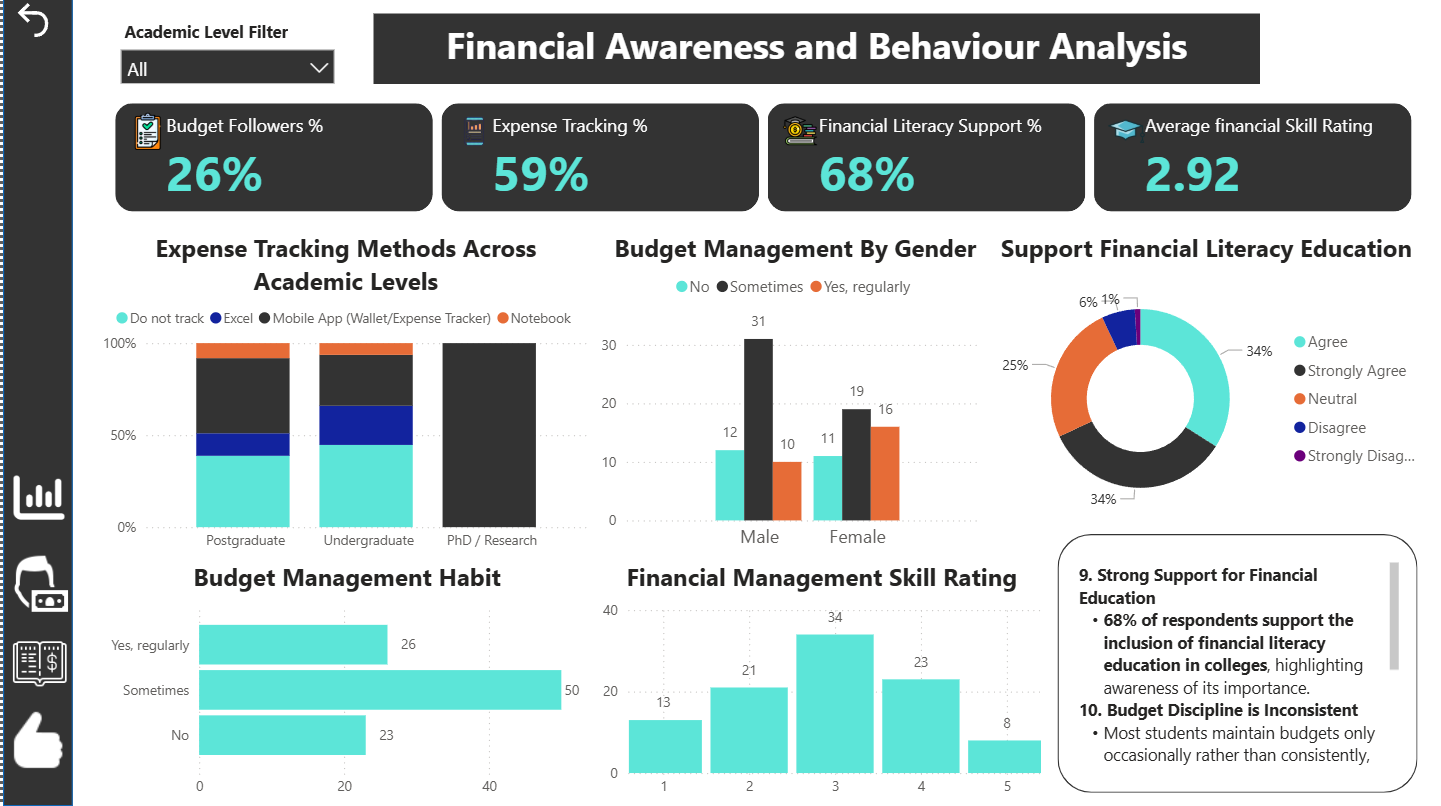

What the dashboard file says about the page in this screenshot:
{"tool":"powerbi","page":{"name":"Financial Awareness and Behaviour Dashboard","canvas":[1280,720],"ordinal":3},"visuals":[{"type":"shape","box":[0,0,62.1,719.2],"z":0},{"type":"hundredPercentStackedColumnChart","title":"Expense Tracking Methods Across Academic Levels","fields":{"Category":["Student_Data.Course / Program"],"Series":["Student_Data.How do you track expenses?"],"Y":["CountNonNull(Student_Data.Index)"]},"box":[83.2,207.9,444.1,292.9],"z":1000},{"type":"clusteredColumnChart","title":"Financial Management Skill Rating","fields":{"Category":["Student_Data.Rate your financial management skill"],"Y":["CountNonNull(Student_Data.Rate your financial management skill)"]},"box":[527.4,500.5,399.5,219.5],"z":2000},{"type":"barChart","title":"Budget Management Habit","fields":{"Category":["Student_Data.Do you maintain a monthly budget?"],"Y":["CountNonNull(Student_Data.Index)"]},"box":[83.7,500.5,443.7,219.5],"z":3000},{"type":"clusteredColumnChart","title":"Budget Management By Gender","fields":{"Series":["Student_Data.Do you maintain a monthly budget?"],"Y":["CountNonNull(Student_Data.Index)"],"Category":["Student_Data.Gender"]},"box":[527.2,207.9,355.3,292.9],"z":4000},{"type":"donutChart","title":"Support Financial Literacy Education","fields":{"Category":["Student_Data.Do you think financial literacy should be taught in colleges?"],"Y":["CountNonNull(Student_Data.Index)"]},"box":[869.3,207.9,400.6,268.3],"z":5000},{"type":"cardVisual","fields":{"Data":["Table.Budget Followers %","Measure.Expense Tracking %","Measure.Financial Literacy Support %","Avg(Student_Data.Rate your financial management skill)"]},"box":[82.5,77.5,1187.6,130.3],"z":6000},{"type":"textbox","box":[328.8,15.1,788,62.4],"z":7000},{"type":"slicer","fields":{"Values":["Student_Data.Course / Program"]},"box":[95,15,210,65],"z":8000},{"type":"textbox","box":[926,501,344,219],"z":9000},{"type":"shape","box":[936.7,476.7,320,230],"z":10000},{"type":"textbox","box":[950,496.7,295,195],"z":11000},{"type":"actionButton","box":[6.5,0,48.7,40.6],"z":12000},{"type":"image","box":[4.9,488.2,56.1,67.6],"z":13000},{"type":"image","box":[8.2,564.1,49.5,56.1],"z":14000},{"type":"image","box":[1.6,425.6,61,39.6],"z":15000},{"type":"image","box":[0,621.9,61,79.2],"z":16000}]}

Visuals, with their boxes on the page's 1280x720 design canvas (x1, y1, x2, y2). These are canvas units, not pixel positions in the 1441x806 screenshot, which may show the page scaled, cropped or inside an application window:
shape: (left=0, top=0, right=62, bottom=719)
"Expense Tracking Methods Across Academic Levels" hundredPercentStackedColumnChart: (left=83, top=208, right=527, bottom=501)
"Financial Management Skill Rating" clusteredColumnChart: (left=527, top=500, right=927, bottom=720)
"Budget Management Habit" barChart: (left=84, top=500, right=527, bottom=720)
"Budget Management By Gender" clusteredColumnChart: (left=527, top=208, right=882, bottom=501)
"Support Financial Literacy Education" donutChart: (left=869, top=208, right=1270, bottom=476)
cardVisual - Table.Budget Followers % x Measure.Expense Tracking %: (left=82, top=78, right=1270, bottom=208)
textbox: (left=329, top=15, right=1117, bottom=78)
slicer - Student_Data.Course / Program: (left=95, top=15, right=305, bottom=80)
textbox: (left=926, top=501, right=1270, bottom=720)
shape: (left=937, top=477, right=1257, bottom=707)
textbox: (left=950, top=497, right=1245, bottom=692)
actionButton: (left=6, top=0, right=55, bottom=41)
image: (left=5, top=488, right=61, bottom=556)
image: (left=8, top=564, right=58, bottom=620)
image: (left=2, top=426, right=63, bottom=465)
image: (left=0, top=622, right=61, bottom=701)
